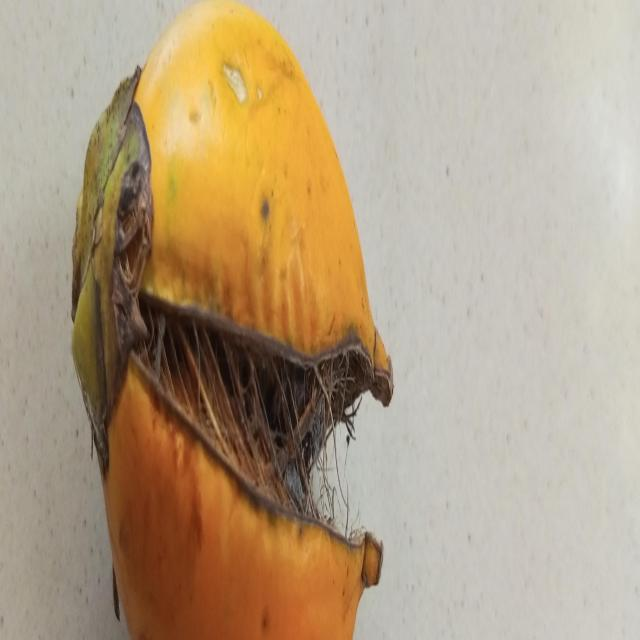damaged: (72, 0, 394, 640)
